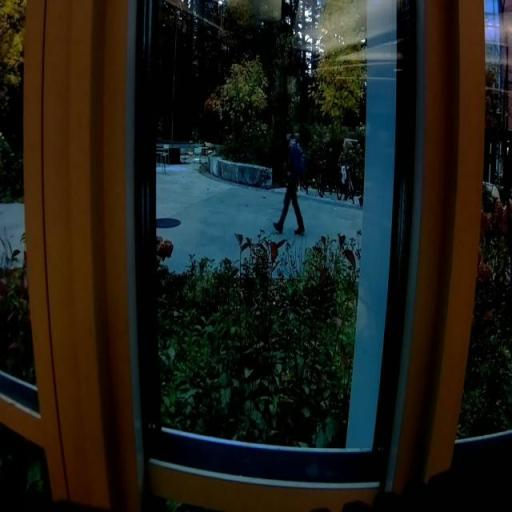pessoa: (276, 127, 309, 236)
